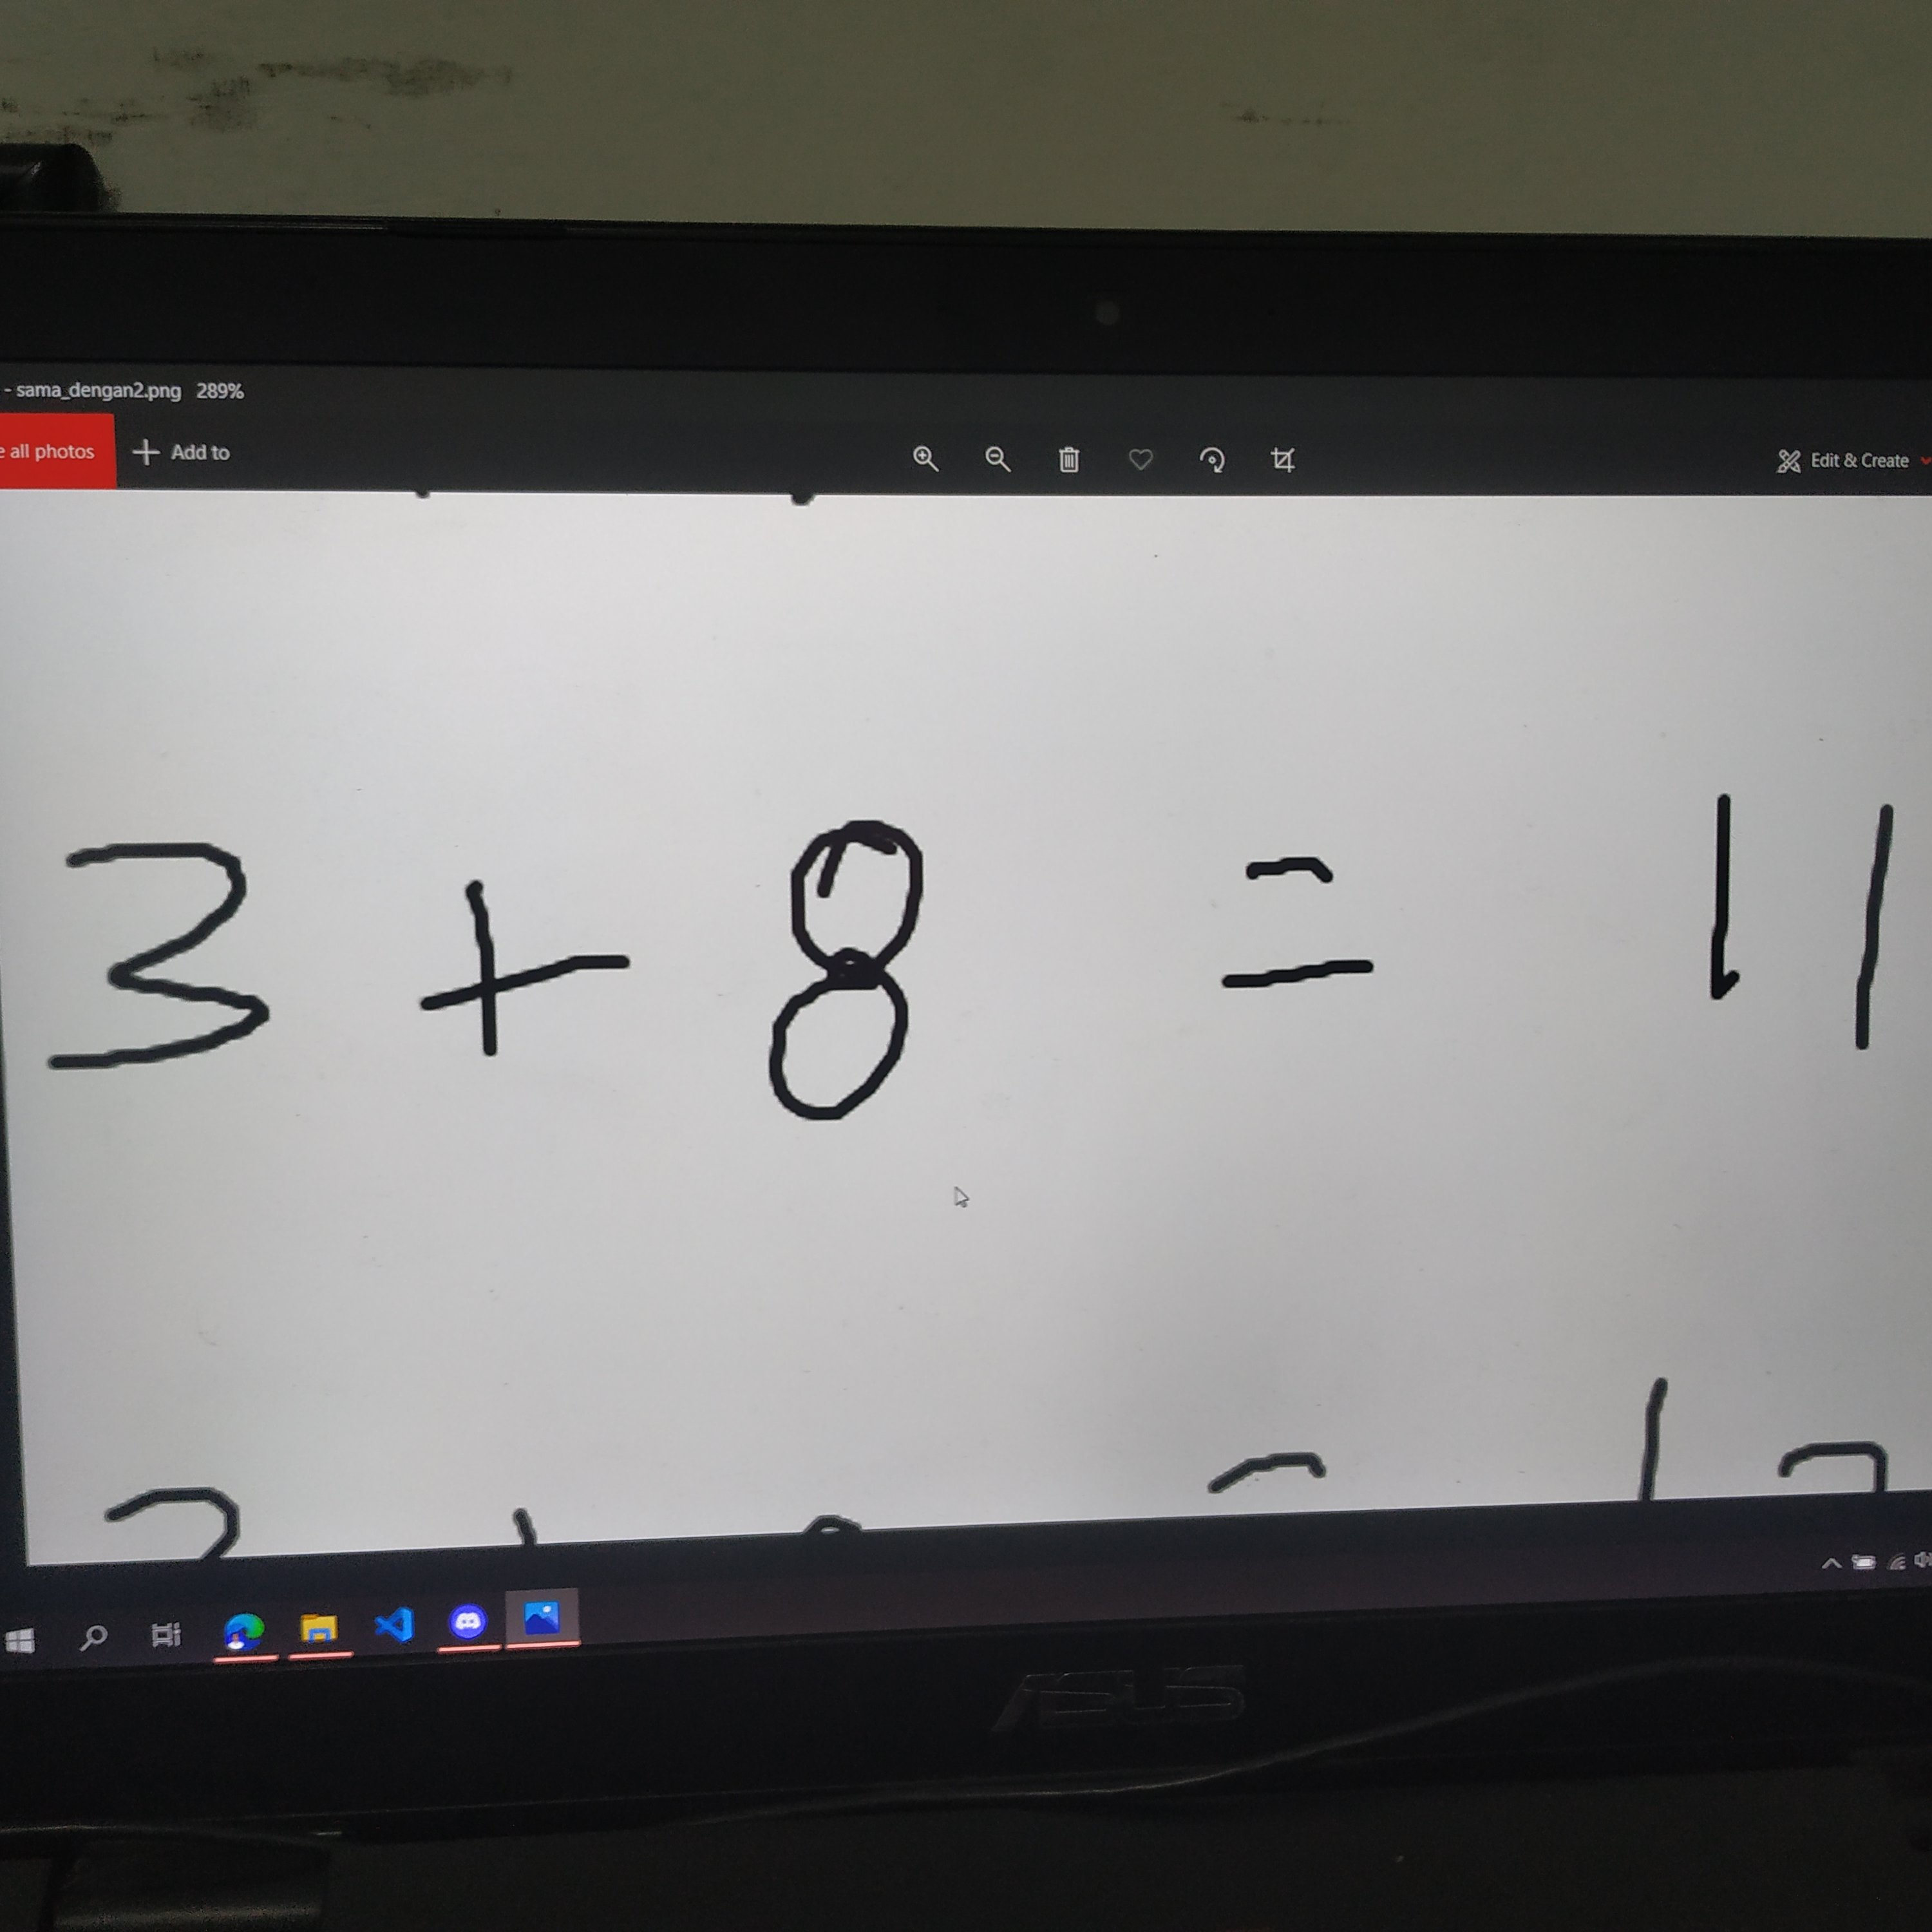equal: (1189, 841, 1407, 1009)
num1: (1828, 791, 1920, 1088), (1667, 777, 1756, 1016)
num3: (21, 820, 318, 1086)
num8: (738, 810, 958, 1144)
sum: (395, 866, 663, 1070)
